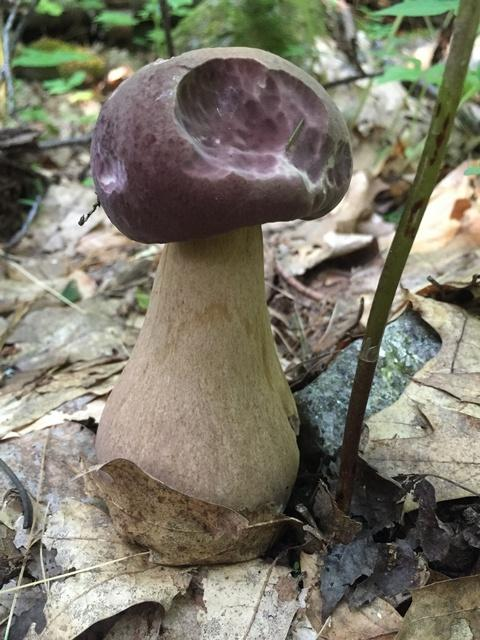Non-edible Mushroom: (84, 45, 354, 534)
